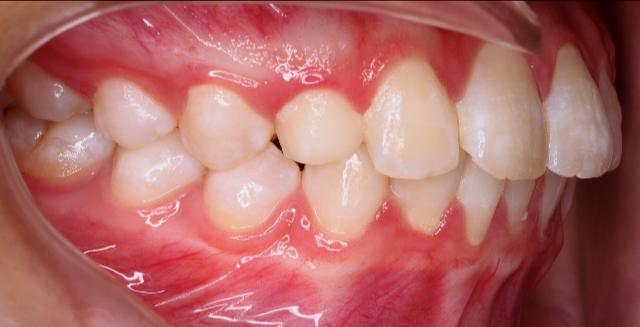canine class II 1/4: (198, 88, 390, 244)
molar class I: (0, 63, 116, 187)
